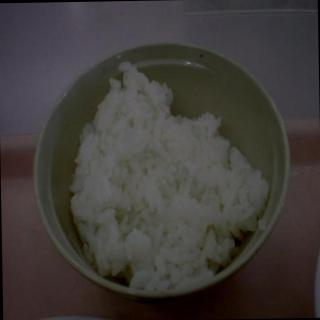Nasi: (64, 57, 273, 295)
